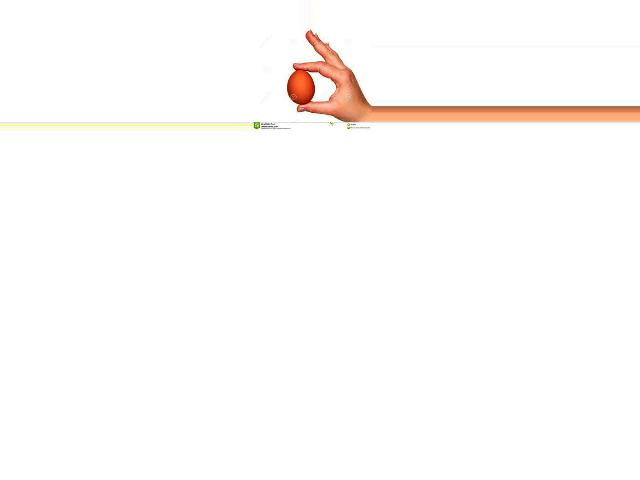egg: (287, 69, 315, 105)
